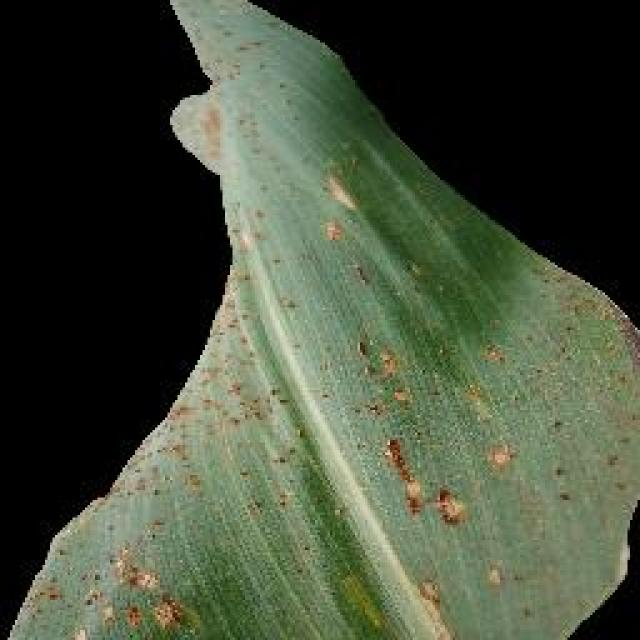Corn Common Rust: (177, 245, 528, 618)
